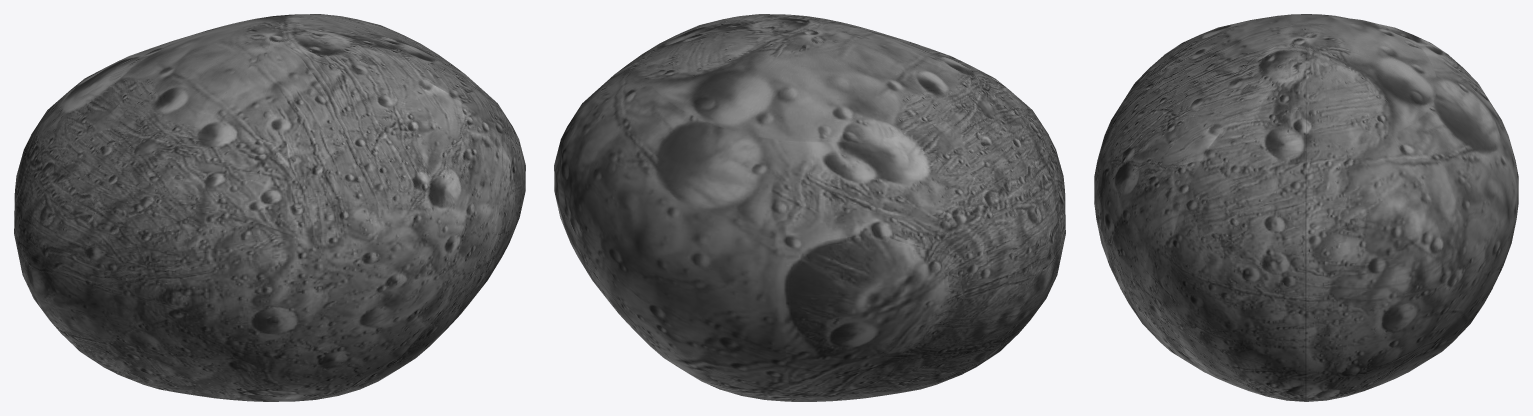
The model's file is phobos.glb.
3 views of the same model, side by side, from view 1: azimuth 30°, elevation 25°; view 2: azimuth 150°, elevation 25°; view 3: azimuth 270°, elevation 25° (orthographic). The views are drawn at different scales.
Bounding box in the file's own units: 2.4 × 1.66 × 2.
1 material, 1 textured.
